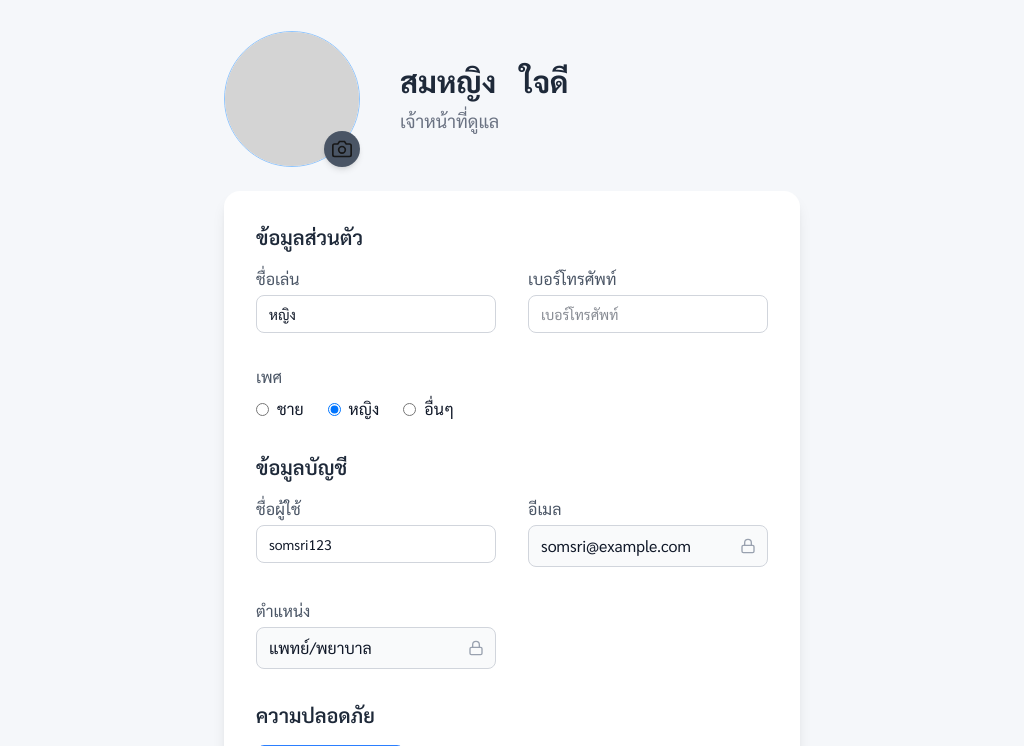
Test: ProfilePageContent › Fill form fields and save button becomes active
Replace the text in the field showing "หญิง" below "ชื่อเล่น" with "ใหม่": (376, 314) [256,295,496,333]
(page scrolled)
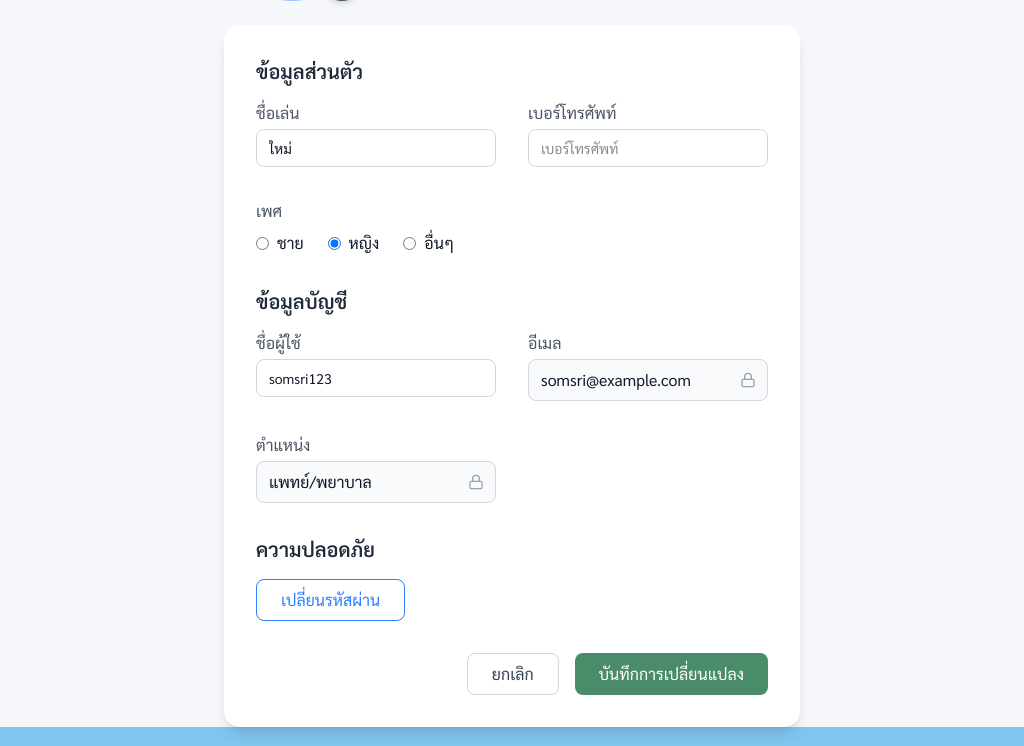
Check: the button "บันทึกการเปลี่ยนแปลง" is enabled, box [575,653,768,695]
Click the button "ยกเลิก": (513, 674) [467,653,559,695]
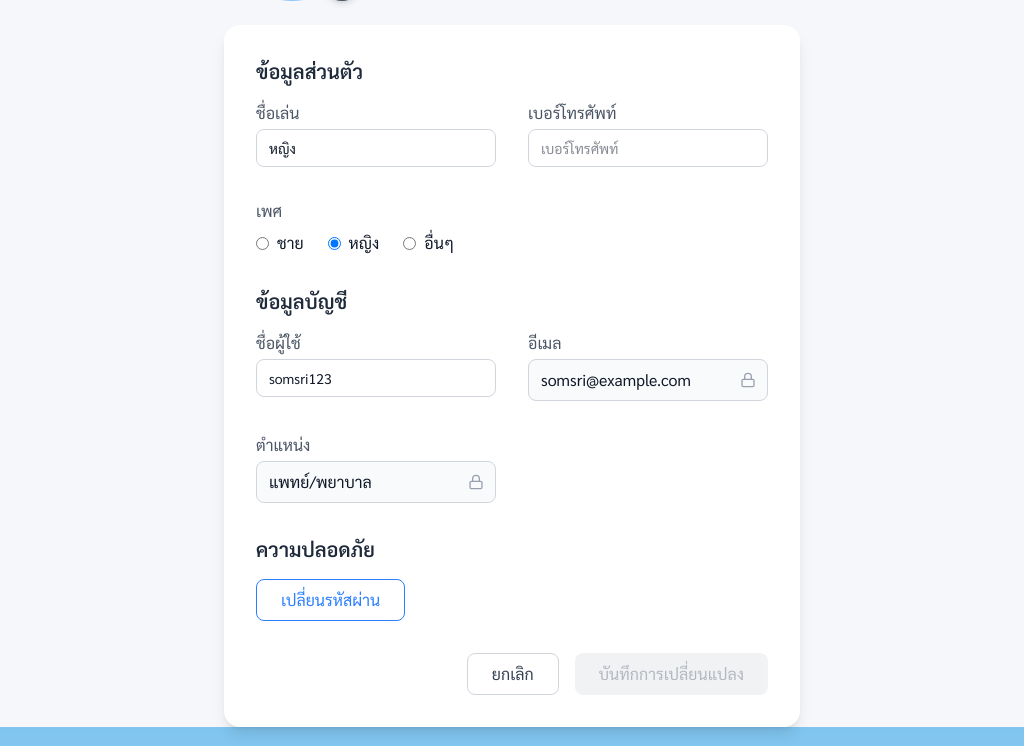
Check: the field showing "หญิง" below "ชื่อเล่น" is shown, box [256,129,496,167]
Check: the button "บันทึกการเปลี่ยนแปลง" is disabled, box [575,653,768,695]
